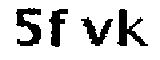5: (11, 4, 47, 49)
f: (47, 3, 75, 48)
k: (116, 6, 152, 52)
v: (78, 13, 114, 50)
